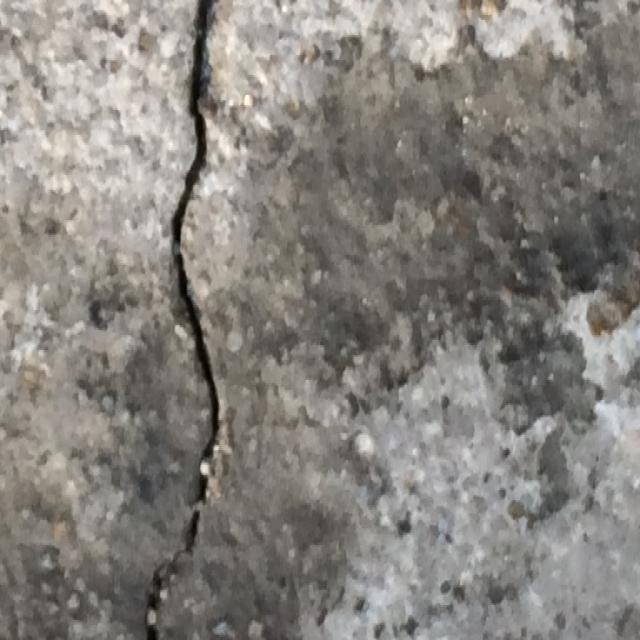Longitudinal: (137, 0, 225, 640)
